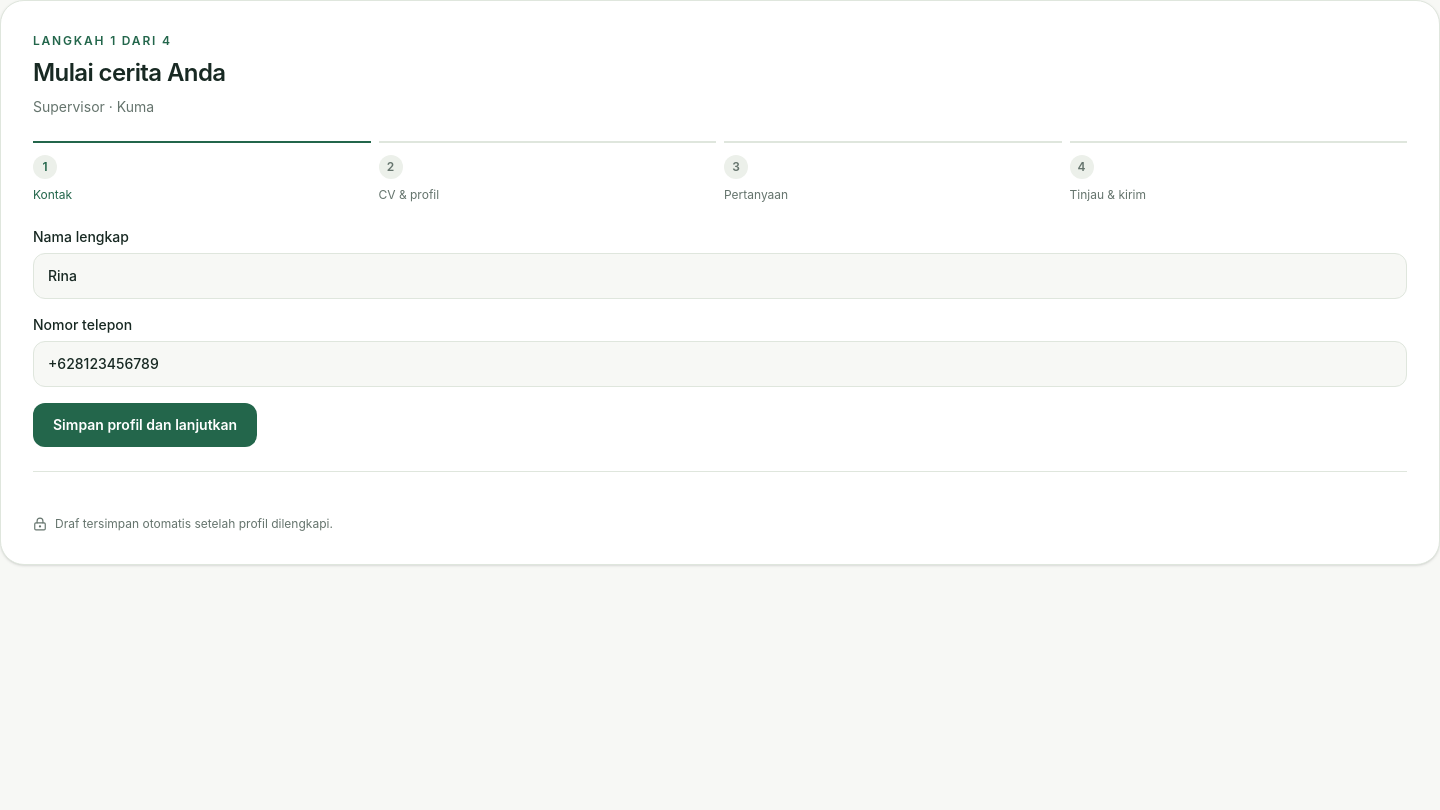
Scenario: verified candidate can complete the staged application and gets the submitted outcome
This screenshot has width=1440, height=810.
Step 1. Click the button "Simpan profil dan lanjutkan" → click(145, 425), box [33,403,257,447]
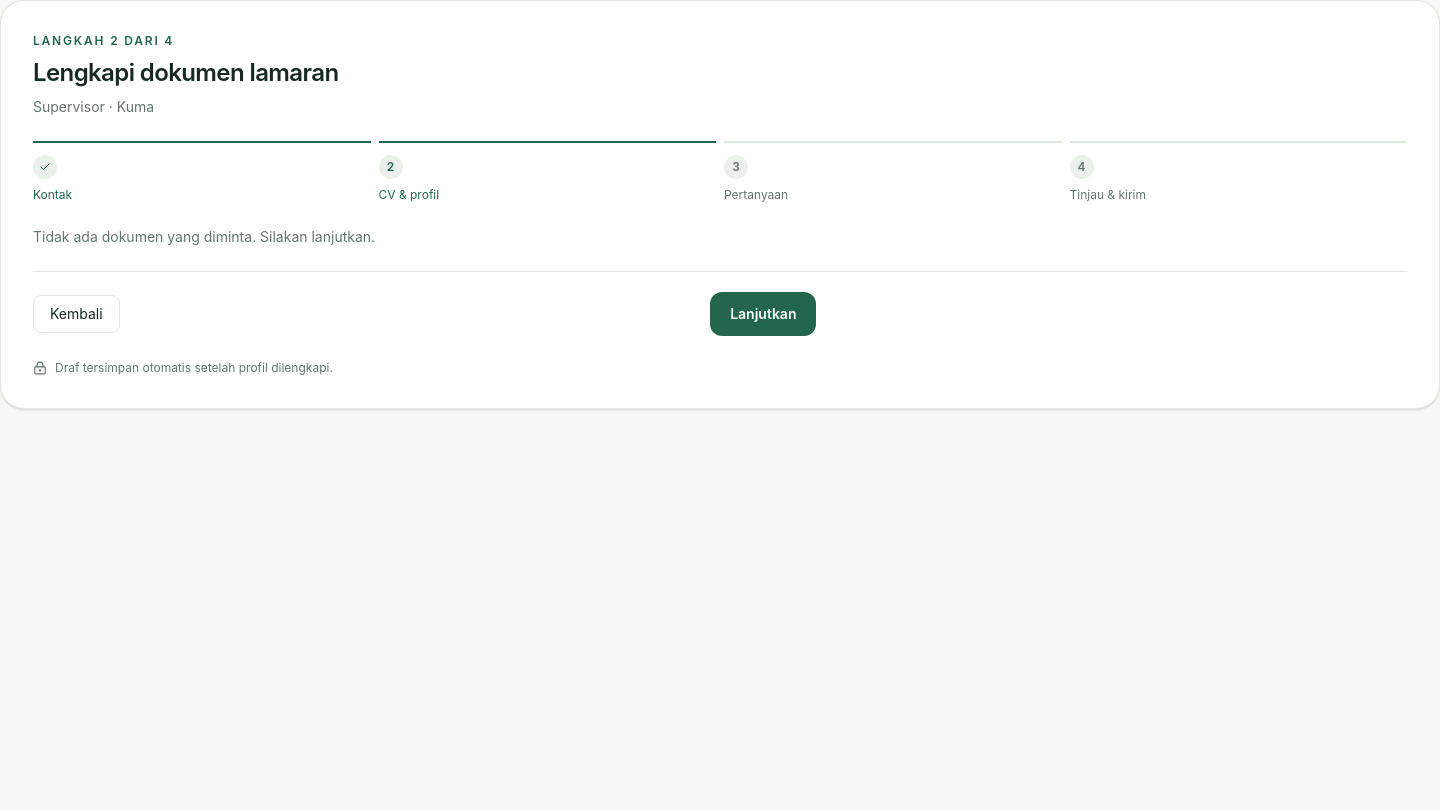
Expected: the button "Lanjutkan" is shown
Step 2. Click the button "Lanjutkan" → click(763, 314), box [710,292,816,336]
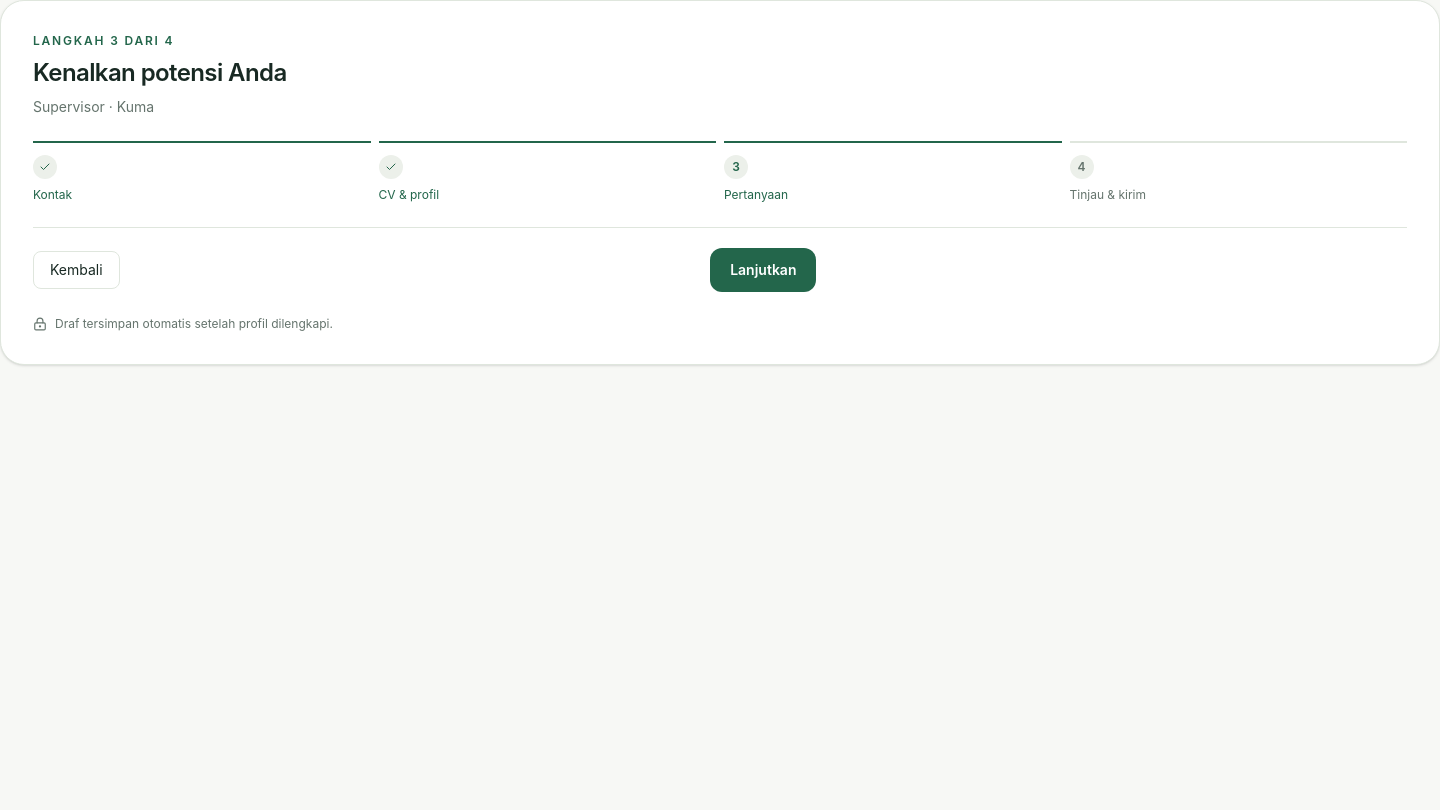
Step 3. Click the button "Lanjutkan" → click(763, 270), box [710,248,816,292]
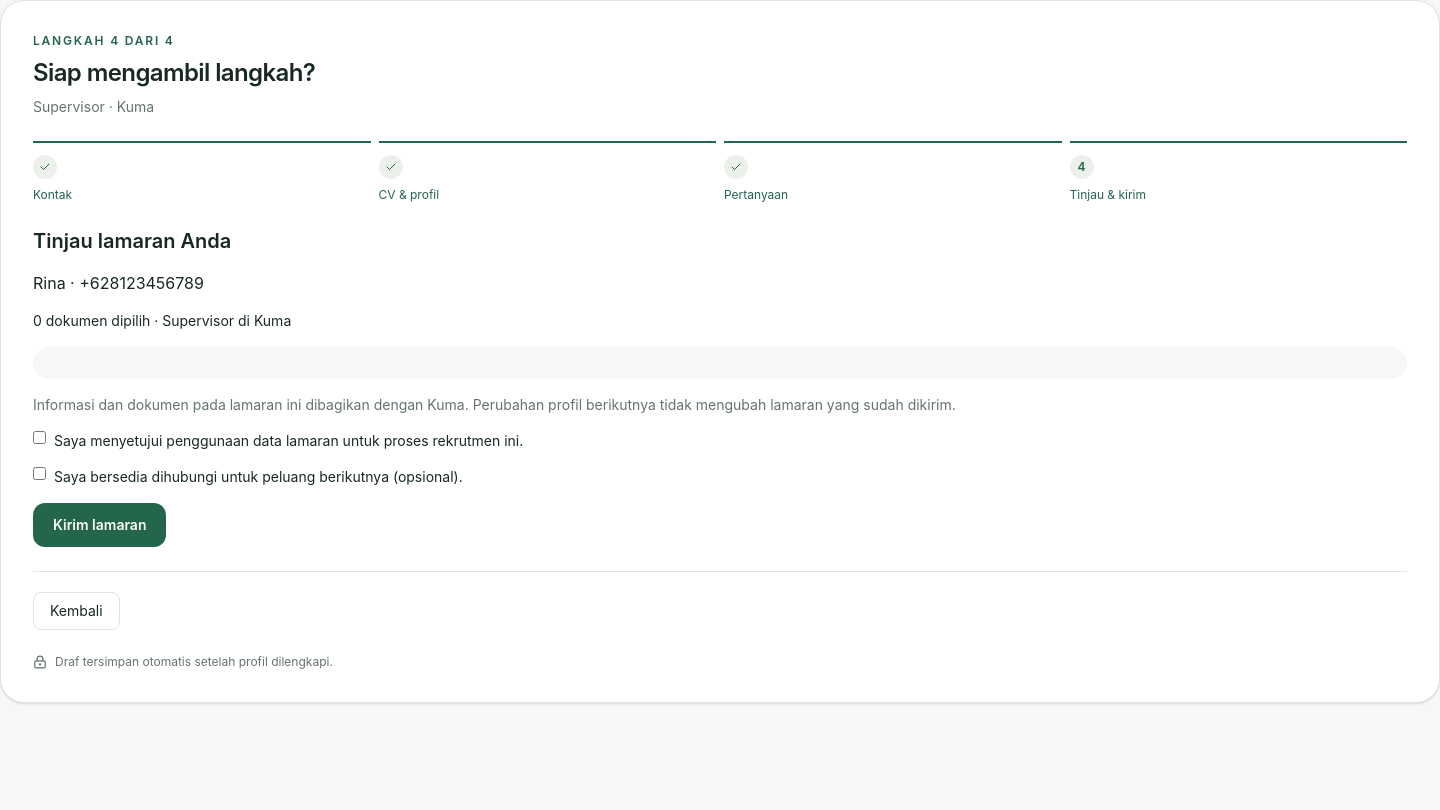
Step 4. Click the checkbox labelled "Saya menyetujui penggunaan" → click(40, 438), box [33,431,46,444]
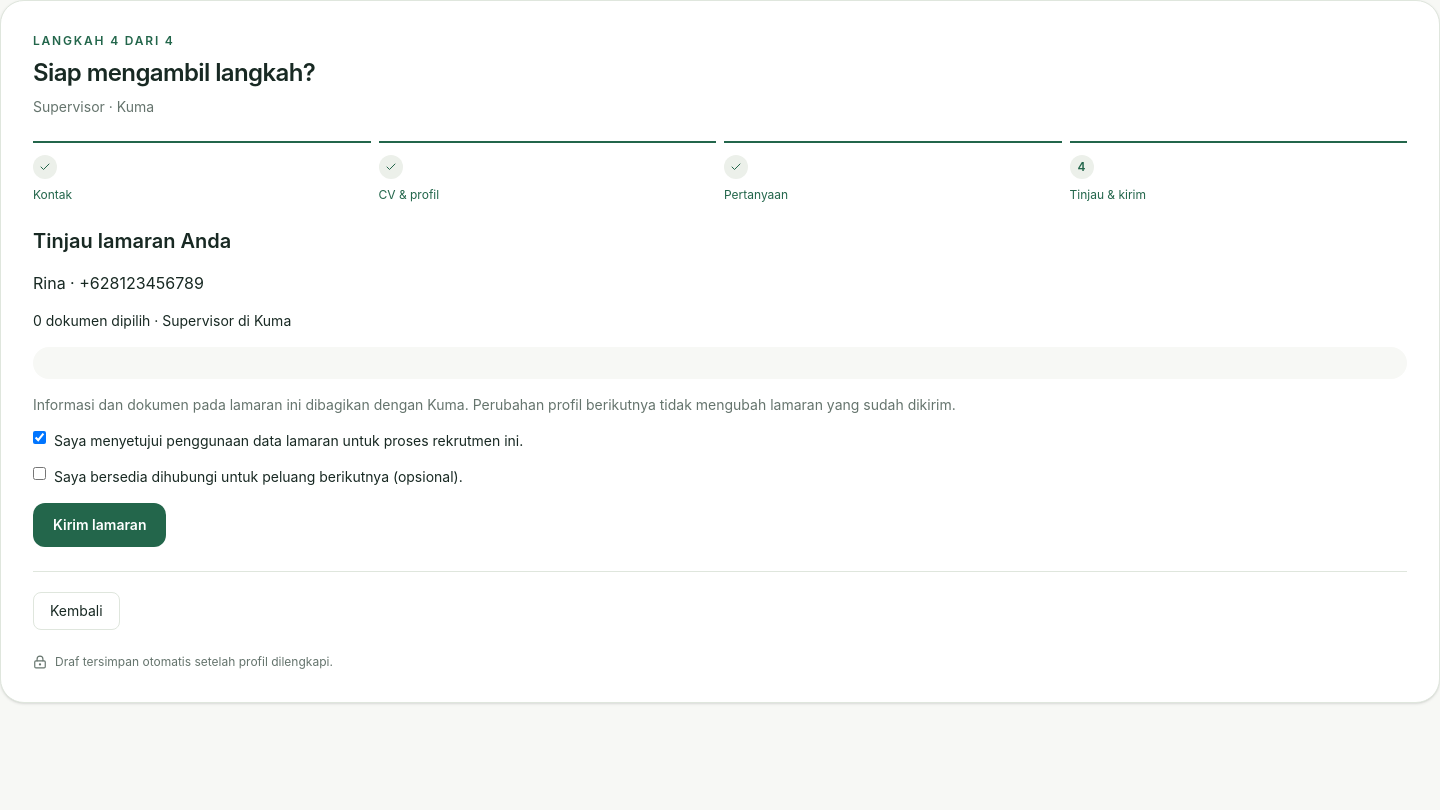
Step 5. Click the button "Kirim lamaran" → click(100, 525), box [33,503,166,547]
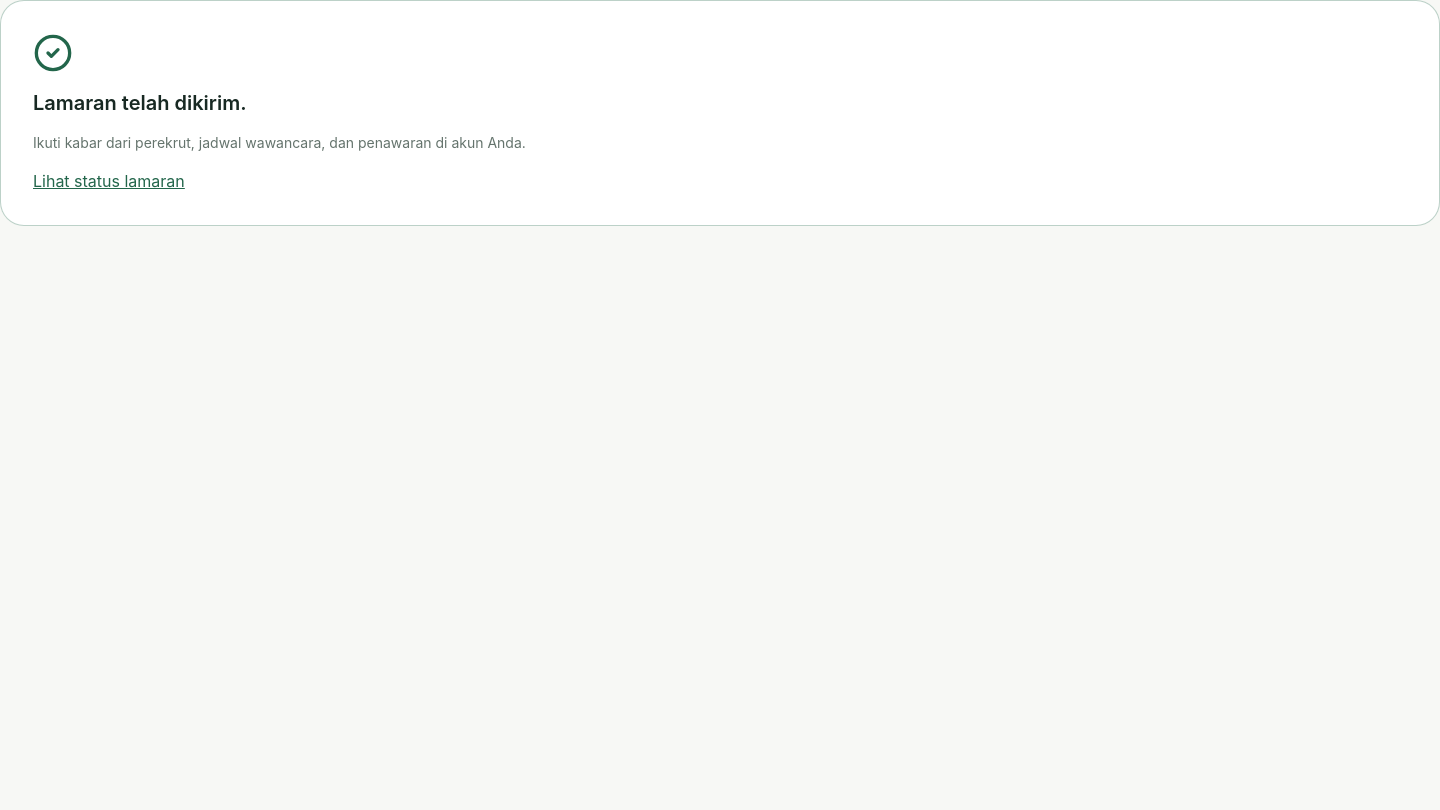
Expected: the heading "Lamaran telah dikirim." is shown, [33,91,246,115]
